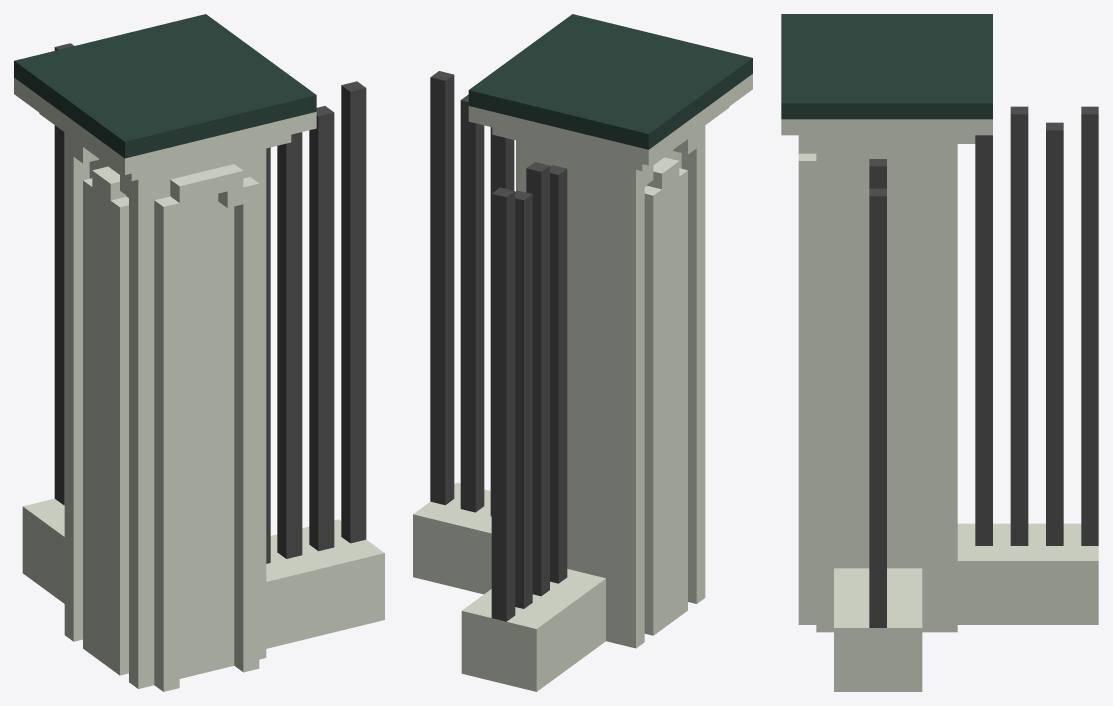
Rendered from gate_corner_L.obj.
3 renders of one model, left to right at view 1: azimuth 30°, elevation 25°; view 2: azimuth 150°, elevation 25°; view 3: azimuth 270°, elevation 25°, orthographic. The views are drawn at different scales.
Bounding box in the file's own units: 1.8 × 3.4 × 1.8.
1 material, 1 textured.
